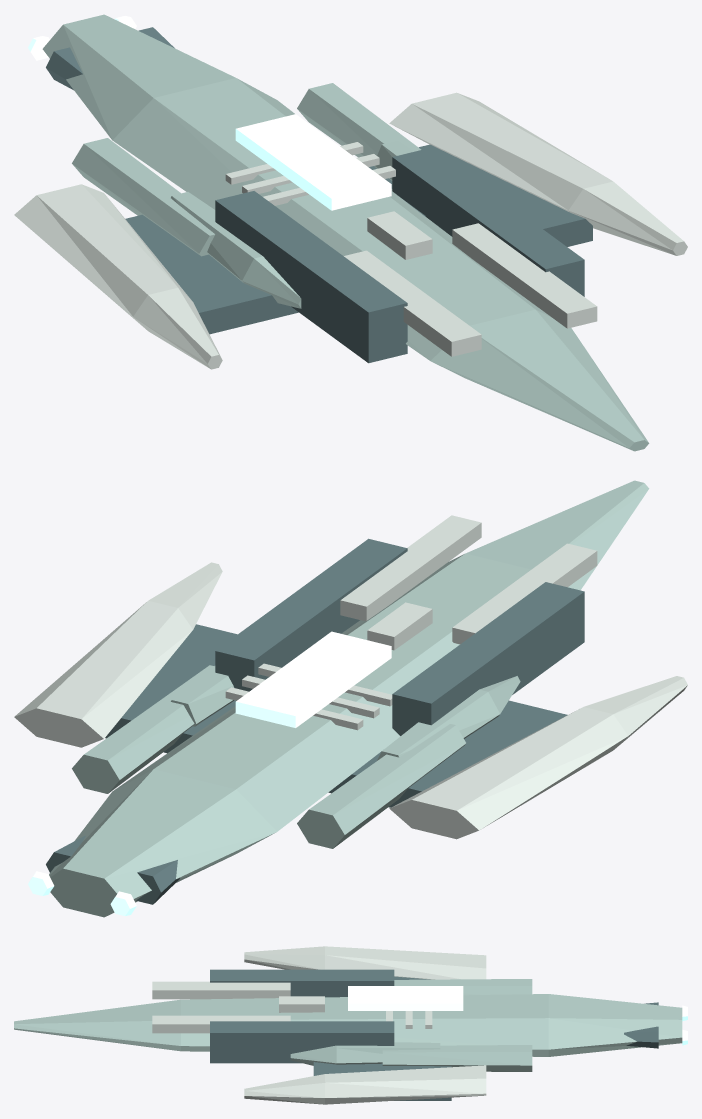
3 views of the same model, one above another, from view 1: azimuth 30°, elevation 25°; view 2: azimuth 150°, elevation 25°; view 3: azimuth 270°, elevation 25° (orthographic). The views are drawn at different scales.
Bounding box in the file's own units: 6.86 × 1.1 × 13.45.
